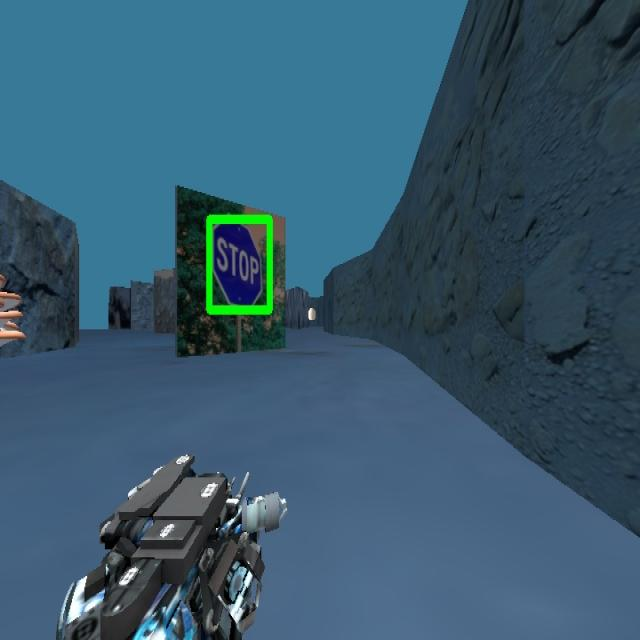Circle: (299, 275, 334, 342)
Mushroom: (0, 272, 26, 345)
Stop_Sign: (204, 212, 274, 316)
